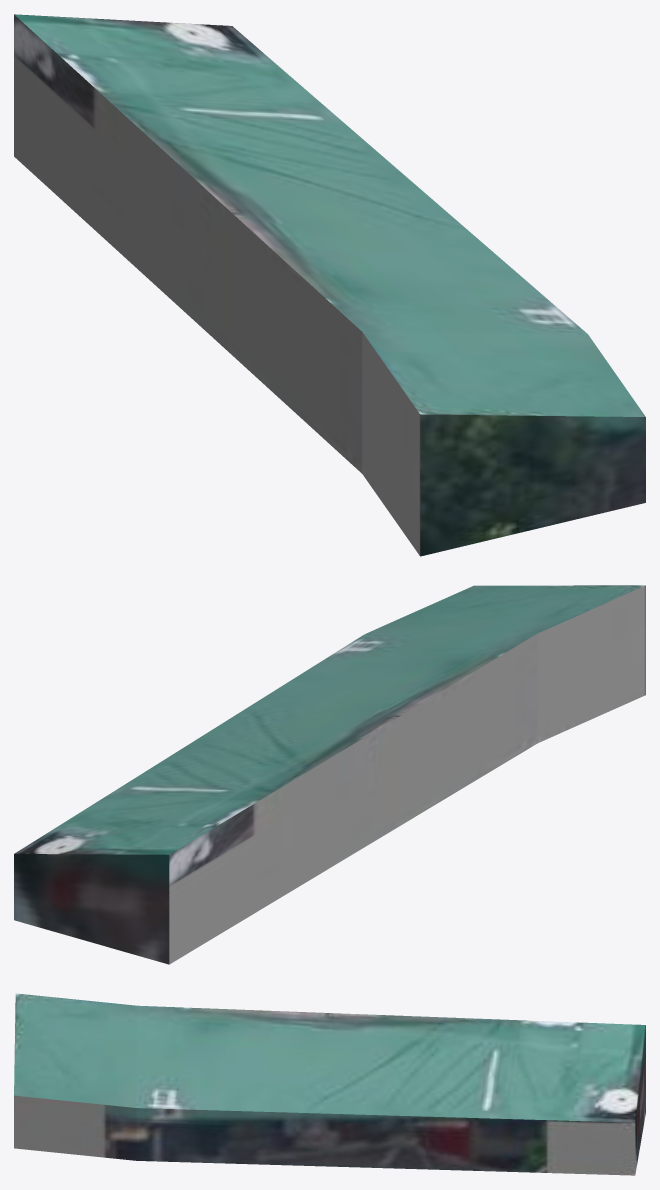
The picture shows the model from 3 angles, top to bottom: view 1: azimuth 30°, elevation 25°; view 2: azimuth 150°, elevation 25°; view 3: azimuth 270°, elevation 25°; orthographic projection. The views are drawn at different scales.
Parts seen in each view (by area): view 1: B287254046101062A0; view 2: B287254046101062A0; view 3: B287254046101062A0.
Part boxes in pixels (x1=…): B287254046101062A0: x1=14, y1=14, x2=645, y2=556; B287254046101062A0: x1=14, y1=585, x2=645, y2=964; B287254046101062A0: x1=14, y1=993, x2=645, y2=1175.
Bounding box in the file's own units: 4.24 × 1.83 × 11.97.
1 material, 1 textured.
